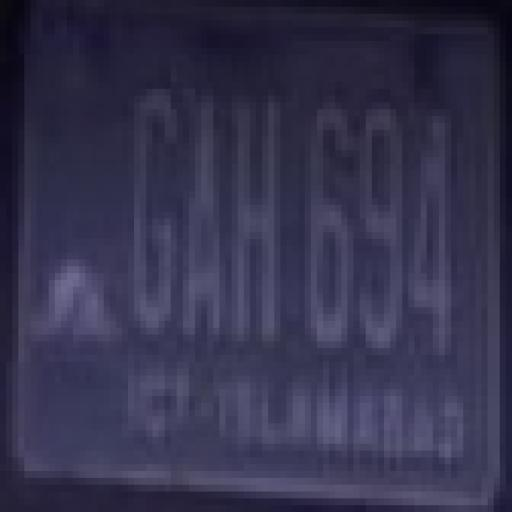4: (411, 108, 464, 374)
6: (306, 101, 356, 366)
9: (359, 110, 404, 368)
A: (184, 85, 226, 356)
G: (118, 81, 181, 351)
H: (232, 86, 284, 361)
